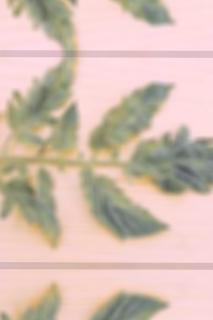Tomato leaf mosaic virus: (80, 166, 168, 240), (7, 59, 79, 147), (123, 135, 213, 198), (0, 171, 58, 251), (51, 102, 81, 156)
